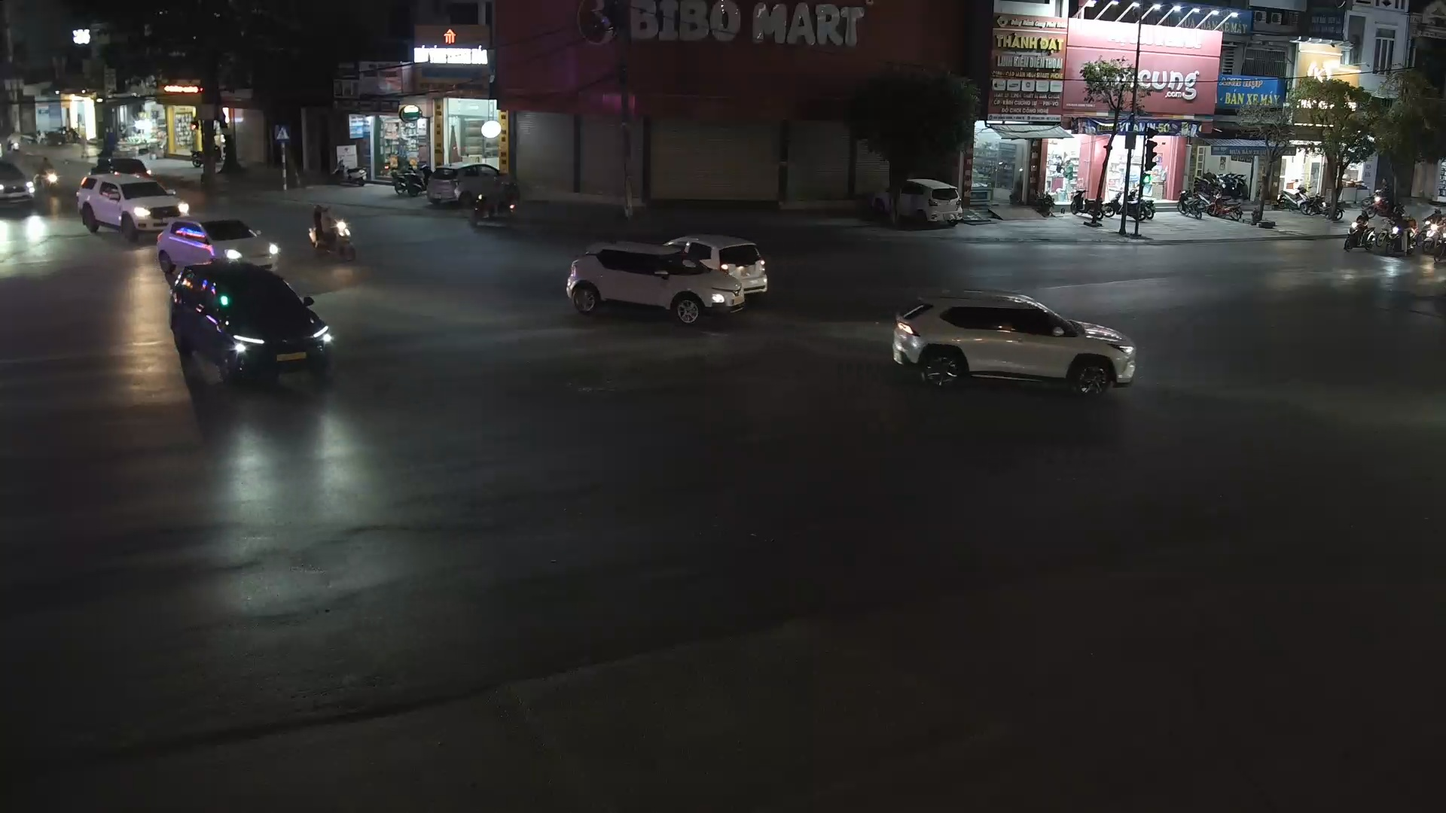car: (890, 290, 1138, 398), (170, 257, 335, 392), (563, 232, 769, 326), (156, 215, 281, 285), (78, 169, 185, 242), (0, 155, 37, 214)
